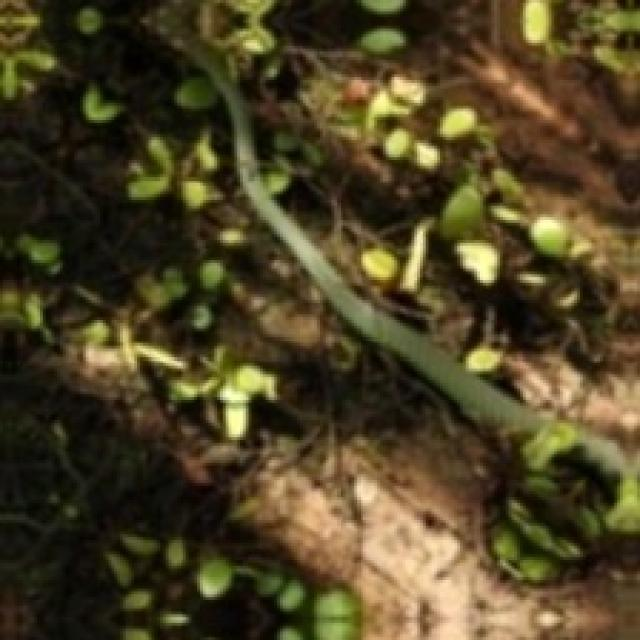paradise tree snake: (129, 0, 637, 589), (251, 357, 417, 543)
